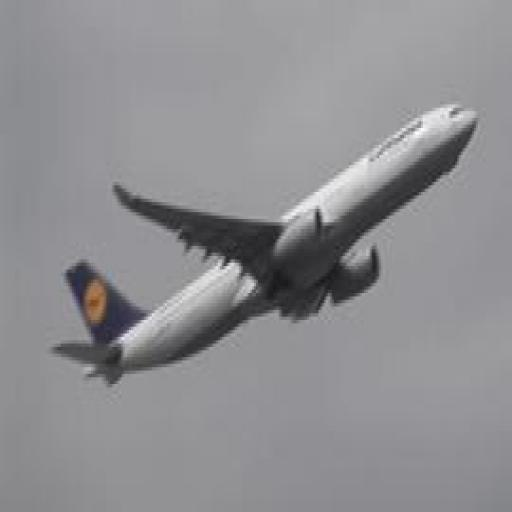aircraft: (51, 103, 479, 391)
